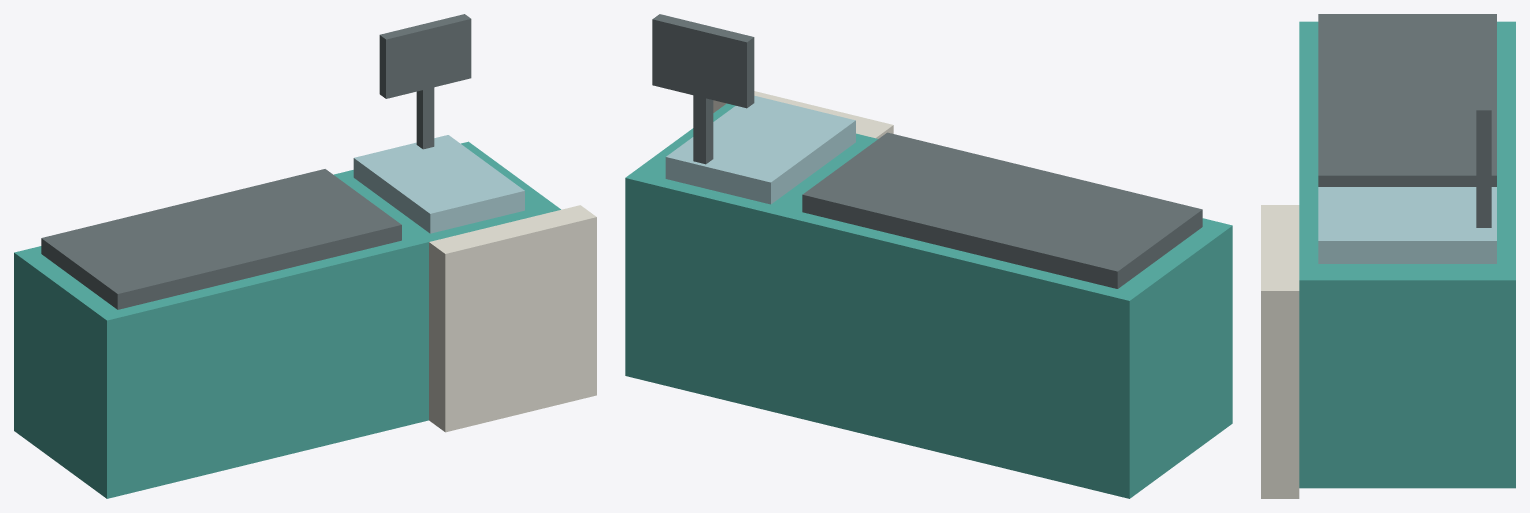
The model's file is supermarket-operations-belt-checkout-90b5f4a9__26767.glb.
The picture shows the model from 3 angles, left to right: view 1: azimuth 30°, elevation 25°; view 2: azimuth 150°, elevation 25°; view 3: azimuth 270°, elevation 25°; orthographic projection. The views are drawn at different scales.
Parts seen in each view (by area): view 1: belt-checkout; view 2: belt-checkout; view 3: belt-checkout.
Boxes of the visible parts, x1,y1,x2,y2 form: belt-checkout: [14, 14, 596, 498]; belt-checkout: [625, 14, 1232, 498]; belt-checkout: [1261, 14, 1515, 498].
Size of the model in its own units: 2.5 by 1.6 by 1.
